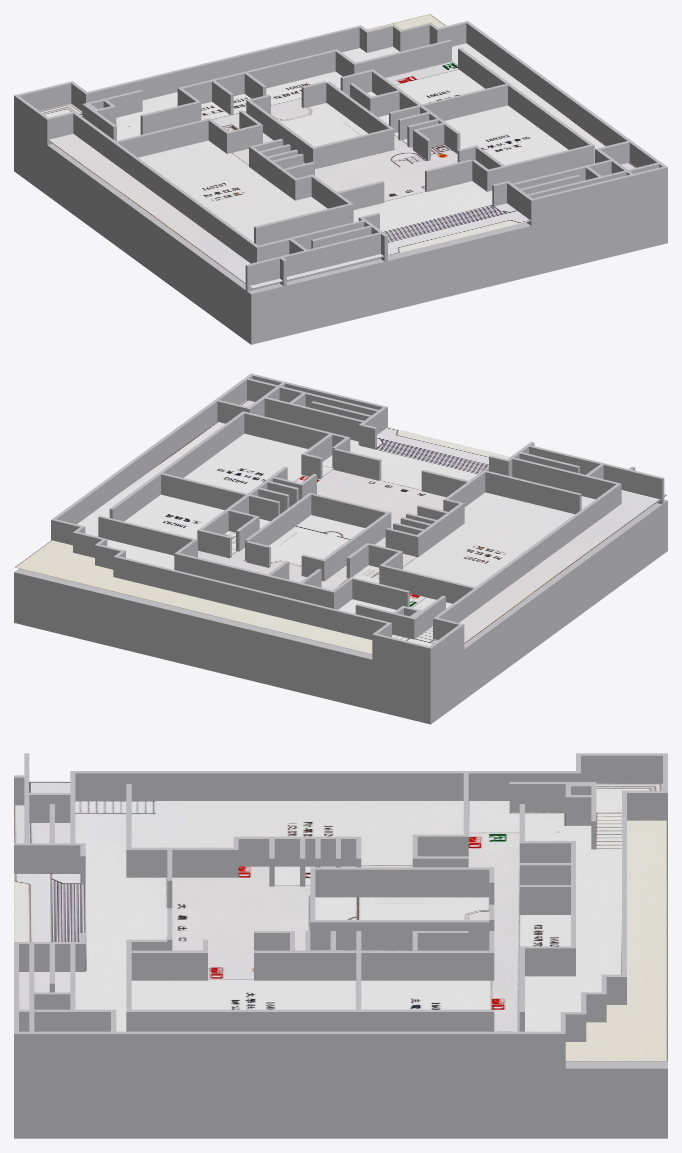
File: Administration-2F-cube.glb
The picture shows the model from 3 angles, top to bottom: view 1: azimuth 30°, elevation 25°; view 2: azimuth 150°, elevation 25°; view 3: azimuth 270°, elevation 25°; orthographic projection. The views are drawn at different scales.
Visible parts, largest first — view 1: Cube, Plane; view 2: Cube, Plane; view 3: Cube, Plane.
Boxes of the visible parts, x1=… form: Cube: x1=14, y1=21, x2=667, y2=344; Plane: x1=40, y1=14, x2=636, y2=288; Cube: x1=14, y1=373, x2=667, y2=724; Plane: x1=15, y1=400, x2=666, y2=654; Cube: x1=14, y1=753, x2=667, y2=1138; Plane: x1=14, y1=781, x2=667, y2=1061.
Size of the model in its own units: 17.25 by 3 by 17.
2 materials, 1 textured.
